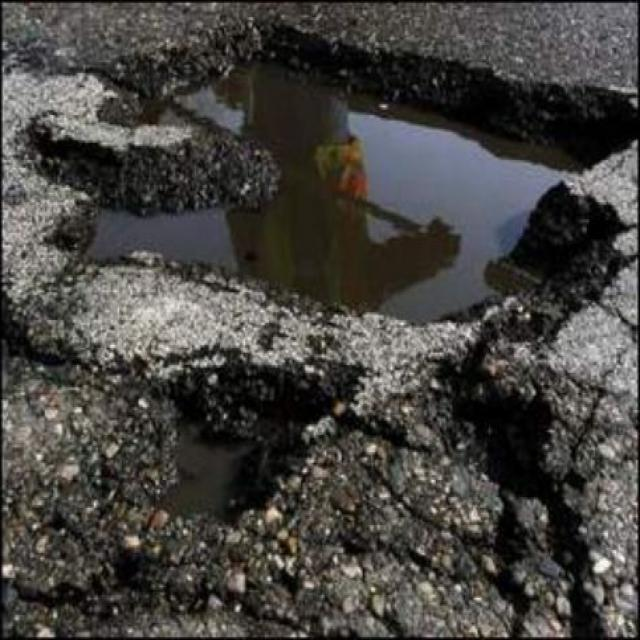Pothole: (36, 17, 639, 331), (132, 341, 372, 526)
